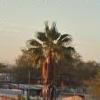Tree: (14, 22, 68, 87)
